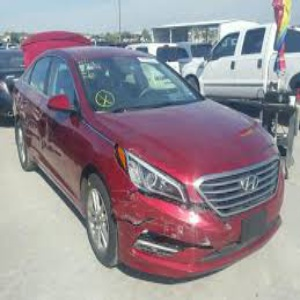bumper: (110, 192, 207, 274)
